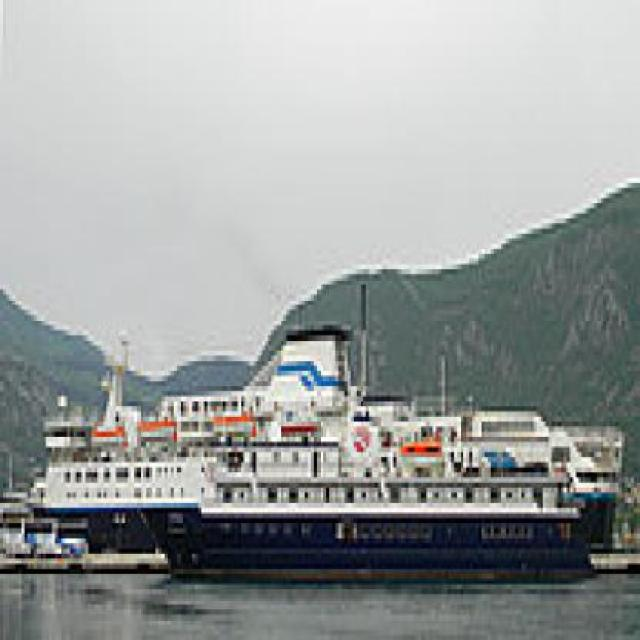cruise: (135, 331, 601, 596)
